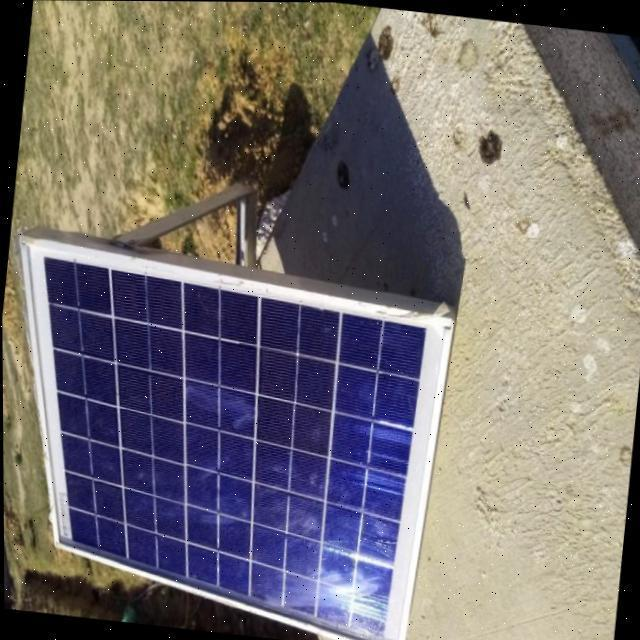Normal Solar Panel: (1, 237, 454, 640)
